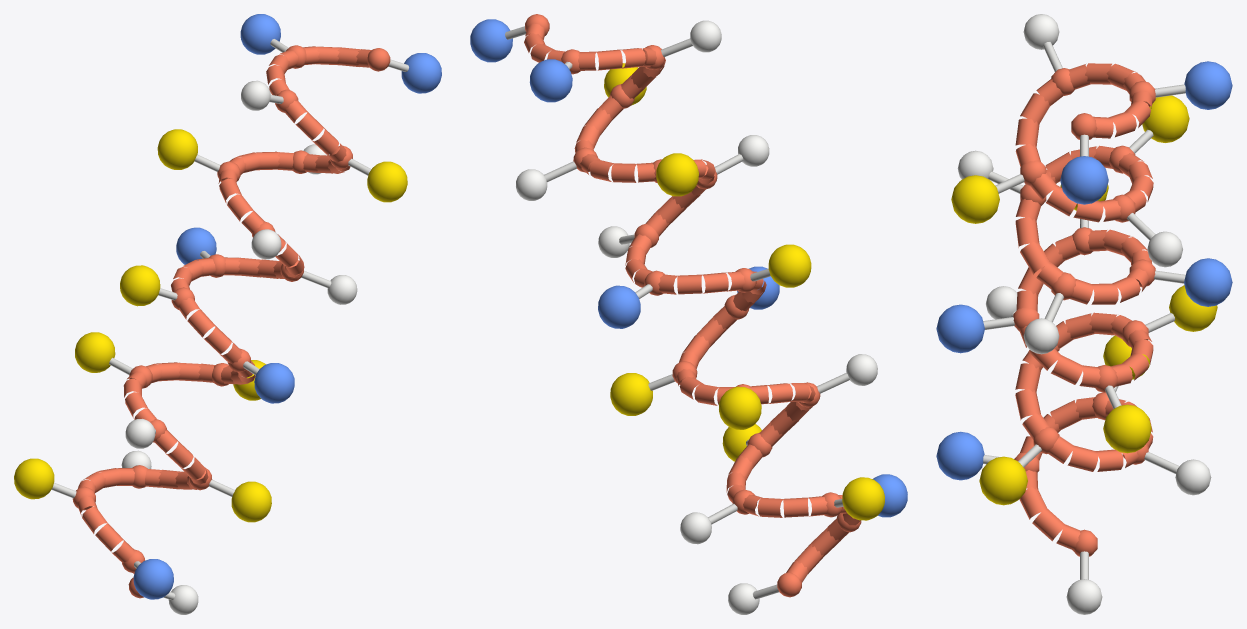
Rendered from nektar1.glb.
3 views of the same model, side by side, from view 1: azimuth 30°, elevation 25°; view 2: azimuth 150°, elevation 25°; view 3: azimuth 270°, elevation 25° (orthographic). The views are drawn at different scales.
Size of the model in its own units: 1.59 by 2 by 0.8544.
